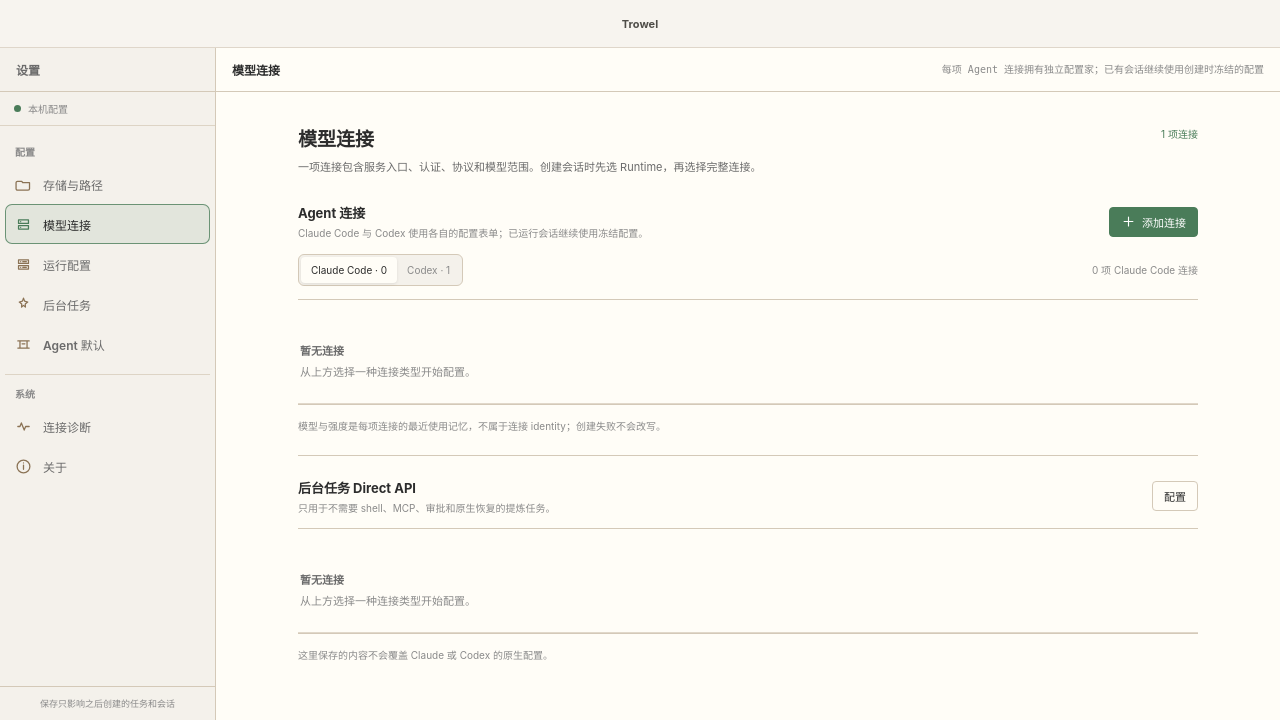
it: shows an Official account instead of asking for an internal login directory
Click the button "Codex · 1".
click(429, 270)  # box x1=397 y1=256 x2=460 y2=282
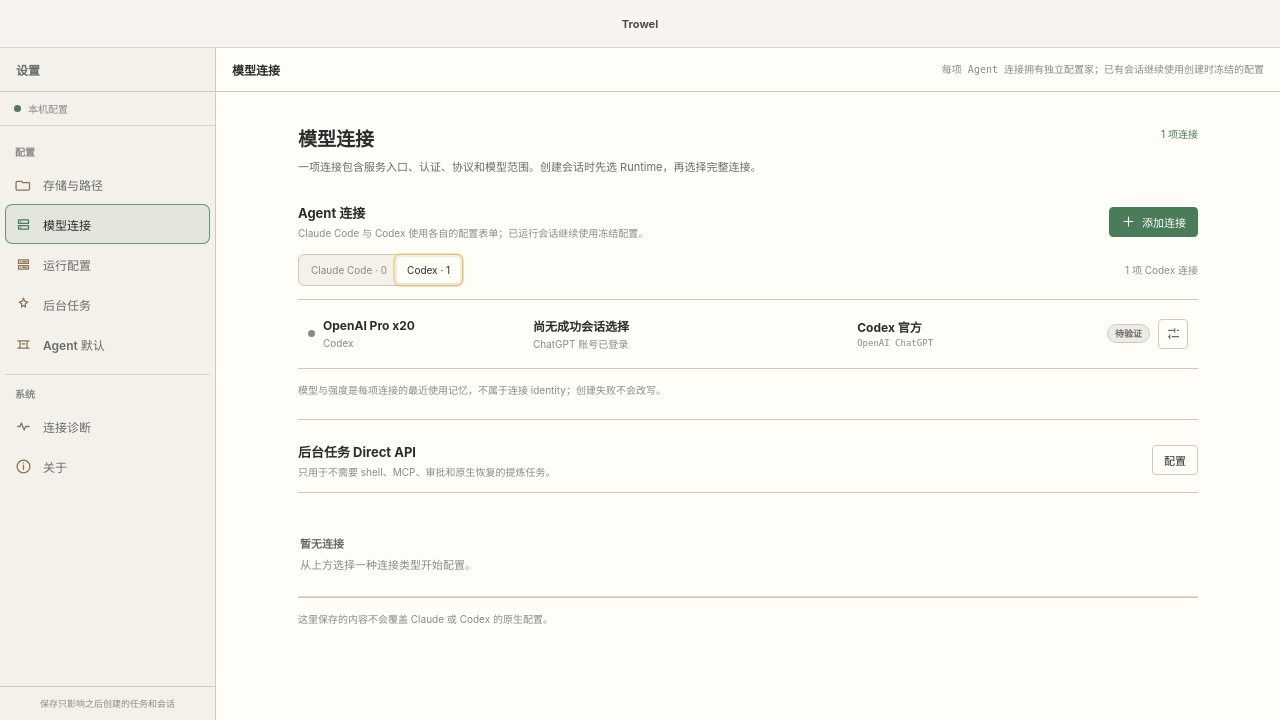
Click the button "OpenAI Pro x20".
click(369, 325)  # box x1=298 y1=300 x2=1198 y2=368
(page scrolled)
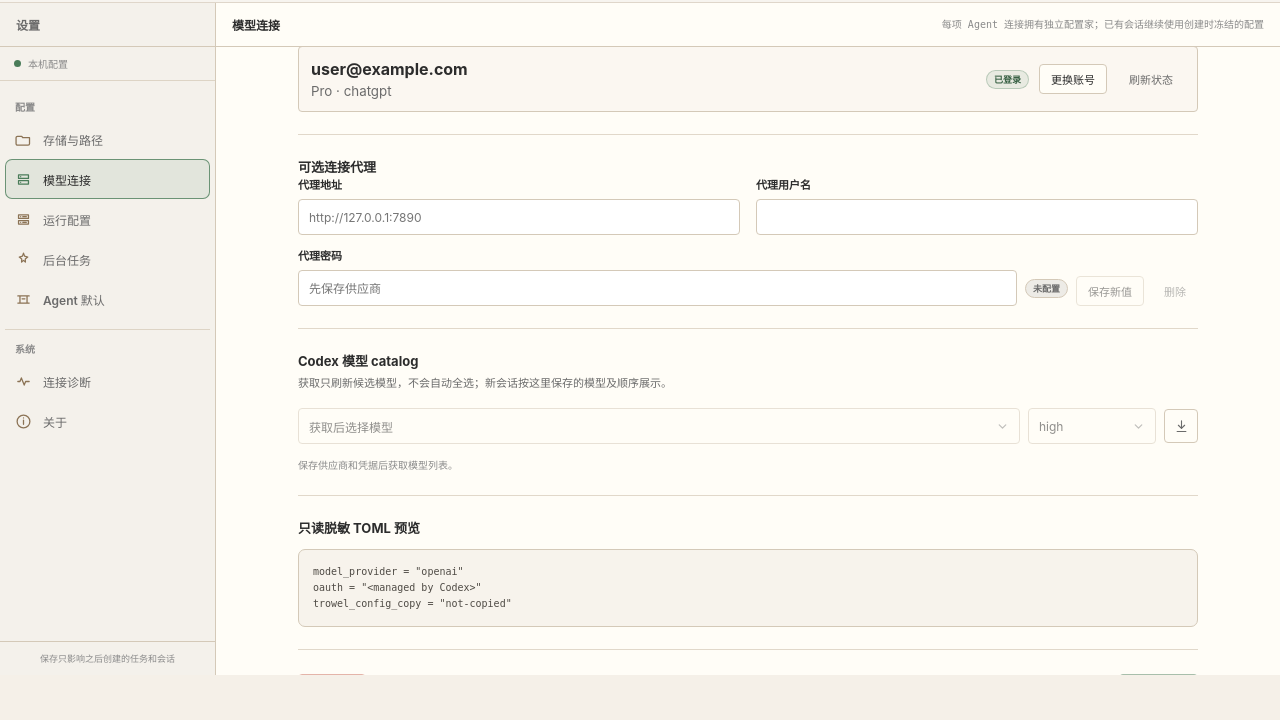
Expected: the text "user@example.com" is shown, x1=311 y1=59 x2=468 y2=79
Expected: the text "Pro · chatgpt" is shown, x1=311 y1=83 x2=392 y2=99
Expected: the heading "Codex 模型 catalog" is shown, x1=298 y1=353 x2=418 y2=369
